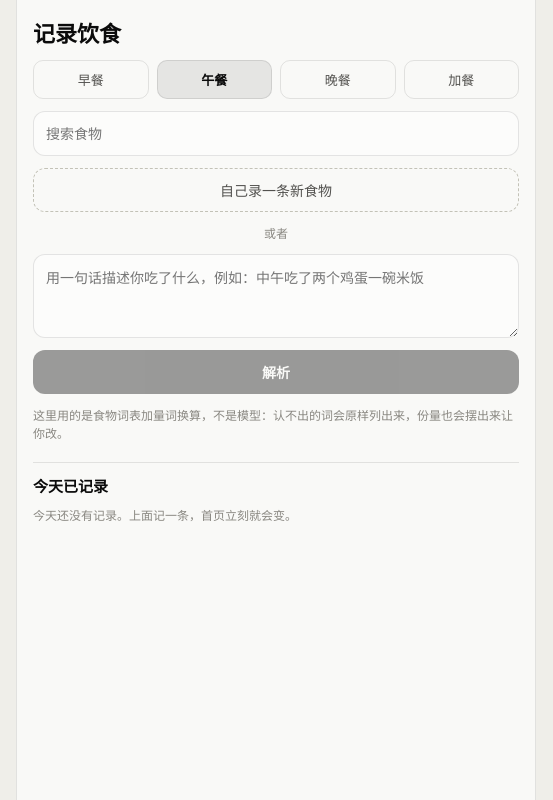
添加饮食页 › 搜到食物后点一下，它就进入待确认列表
Type "鸡胸" into the field with placeholder "搜索食物". click: (276, 134)
box: 33,111 -> 519,156
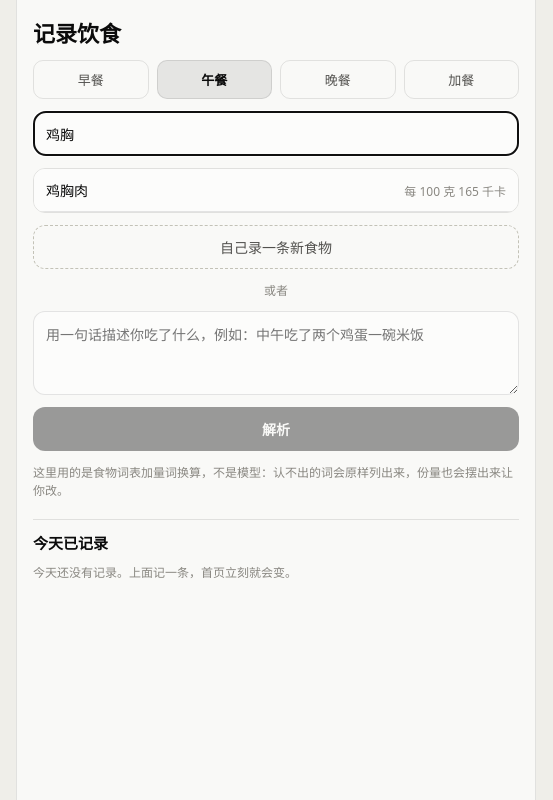
Click the button "鸡胸肉 每 100 克 165 千卡". click: (67, 190)
box: 34,169 -> 518,212
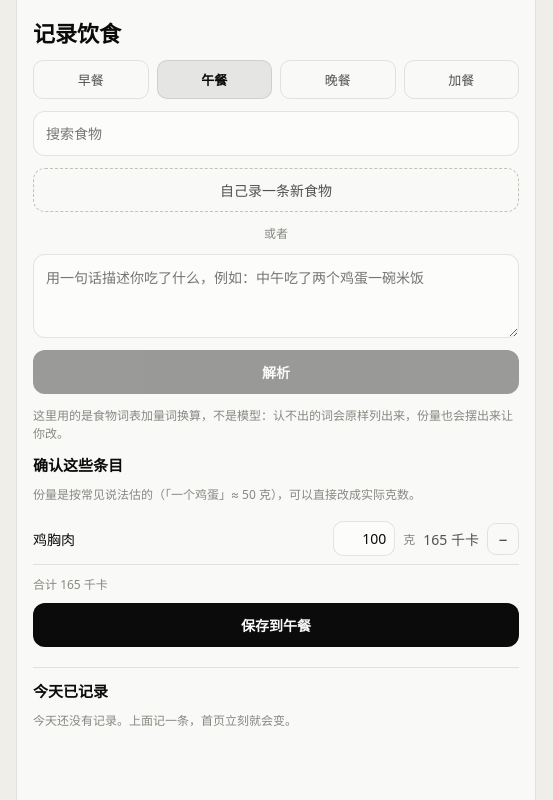
Now the heading "确认这些条目" is shown, box 33,455 -> 123,475
Now the field named "鸡胸肉的克数" holds "100", box 333,521 -> 395,556
Now the button "保存到午餐" is shown, box 33,603 -> 519,647
